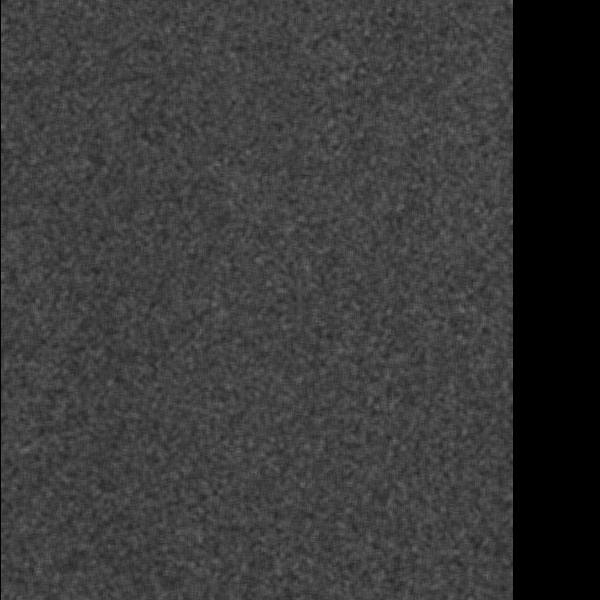spark: (190, 229, 255, 265), (288, 295, 321, 345)
